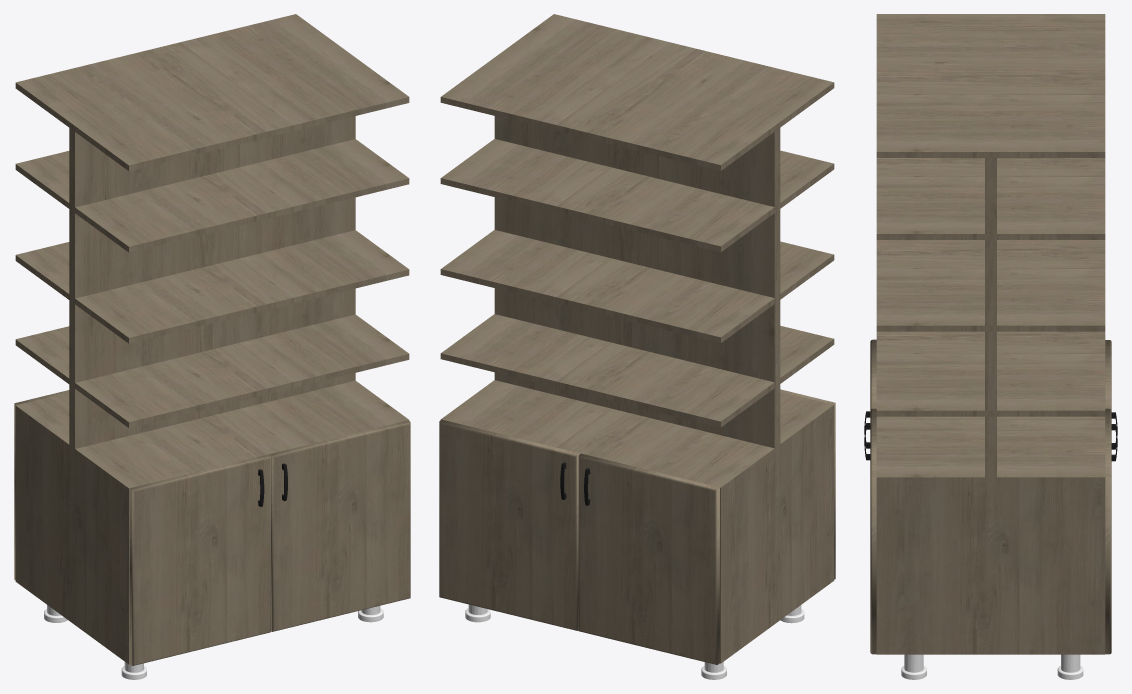
The picture shows the model from 3 angles, left to right: view 1: azimuth 30°, elevation 25°; view 2: azimuth 150°, elevation 25°; view 3: azimuth 270°, elevation 25°; orthographic projection.
Visible parts, largest first — view 1: Box001, Box003, Box002, Box025, Box034, Box005, Box004, Box006; view 2: Box001, Box003, Box002, Box038, Box037, Box006, Box004, Box005; view 3: Box001, Box003, Box005, Box006, Box004, Box002, Box034, Box037, Cylinder008, Cylinder003, Box025, Box038.
Boxes of the visible parts, x1,y1,x2,y2 form: Box001: [15, 380, 409, 664]; Box003: [15, 14, 409, 171]; Box002: [69, 116, 355, 448]; Box025: [129, 454, 270, 665]; Box034: [269, 420, 410, 631]; Box005: [15, 230, 409, 343]; Box004: [15, 139, 409, 252]; Box006: [15, 314, 409, 427]; Box001: [440, 380, 834, 663]; Box003: [440, 14, 834, 170]; Box002: [494, 116, 780, 448]; Box038: [578, 453, 719, 664]; Box037: [439, 419, 580, 630]; Box006: [440, 314, 834, 427]; Box004: [440, 139, 834, 252]; Box005: [440, 230, 834, 343]; Box001: [876, 416, 1105, 654]; Box003: [876, 14, 1105, 157]; Box005: [876, 240, 1105, 331]; Box006: [876, 331, 1105, 416]; Box004: [876, 158, 1105, 239]; Box002: [985, 158, 996, 477]; Box034: [870, 408, 876, 654]; Box037: [1105, 408, 1111, 654]; Cylinder008: [1057, 654, 1083, 679]; Cylinder003: [901, 654, 926, 679]; Box025: [870, 339, 876, 409]; Box038: [1105, 340, 1111, 409].
Size of the model in its own units: 1 by 1.8 by 0.7758.
3 materials, 1 textured.
